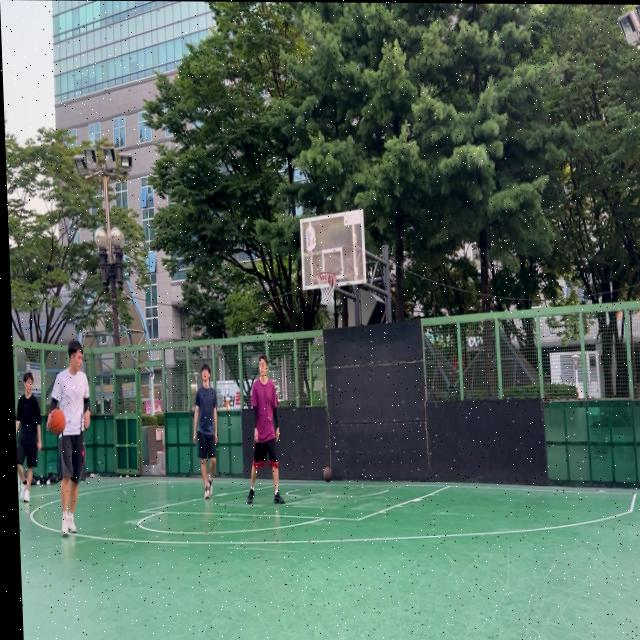basketball: (49, 408, 66, 435), (323, 466, 333, 482)
hoop: (316, 271, 338, 306)
